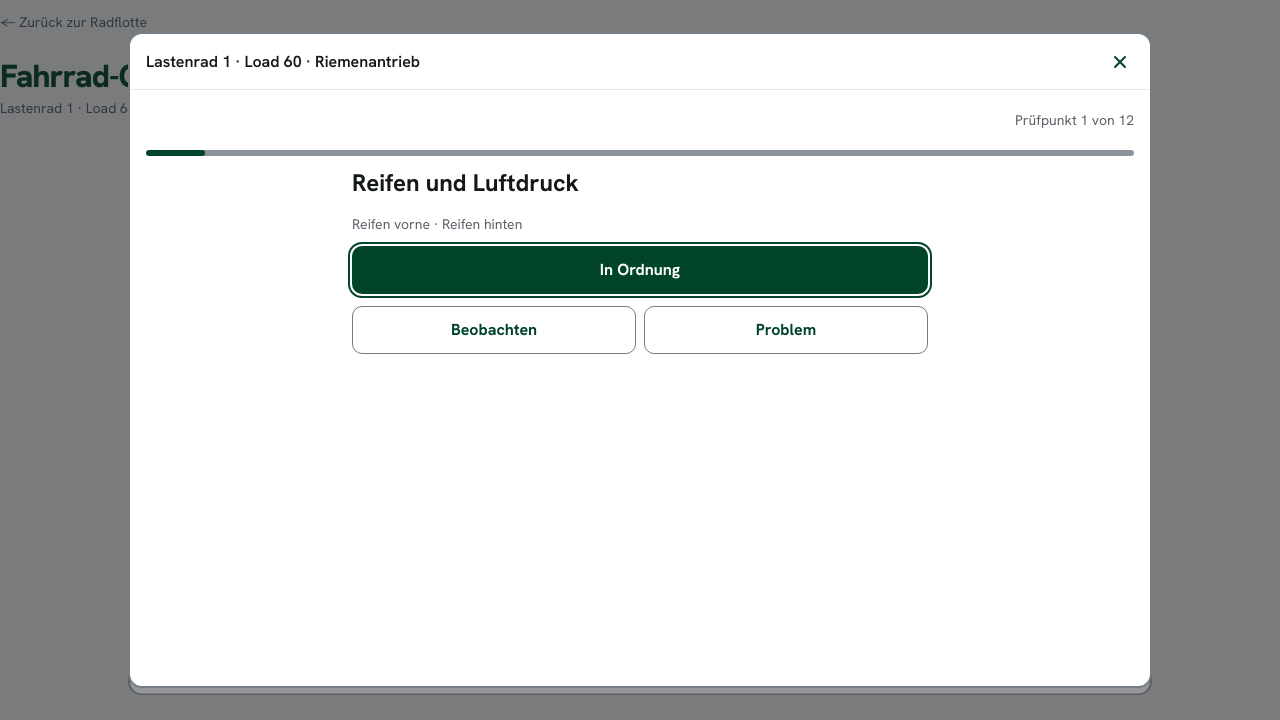
Scenario: Geführter Check-Up › nimmt nach jedem Seitenwechsel kurz keinen Tipp an (Doppeltipp)
Click the button "In Ordnung" below "Reifen vorne · Reifen hinten".
click(640, 270)  # box x1=352 y1=246 x2=928 y2=294
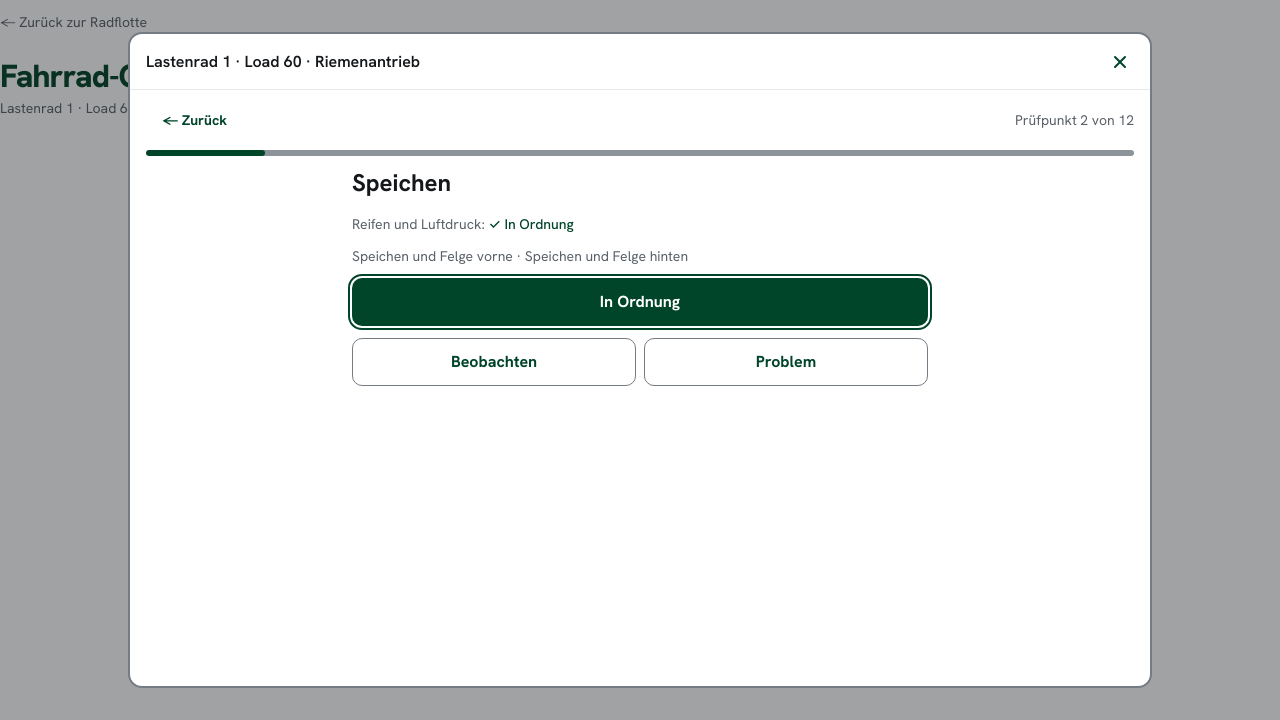
Result: the element "In Ordnung" is shown at x1=352 y1=167 x2=928 y2=386
